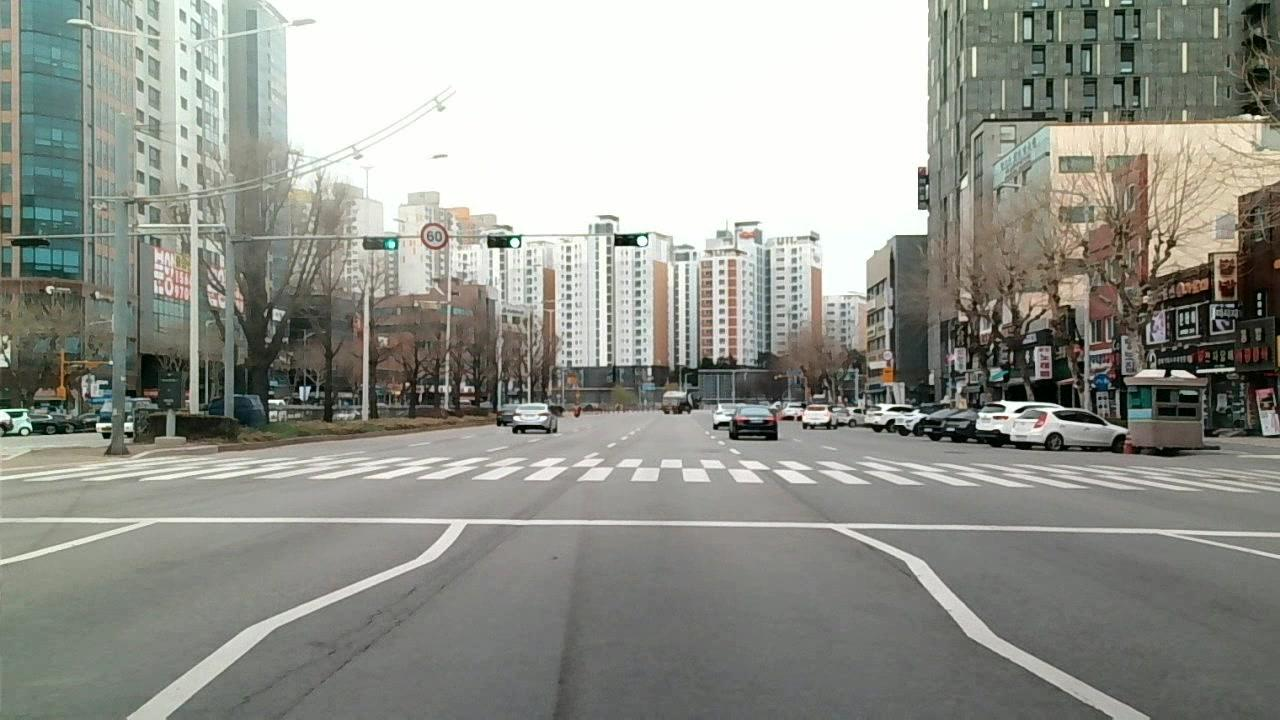vcrack: (228, 639, 353, 720), (354, 573, 444, 636), (871, 543, 911, 578)
